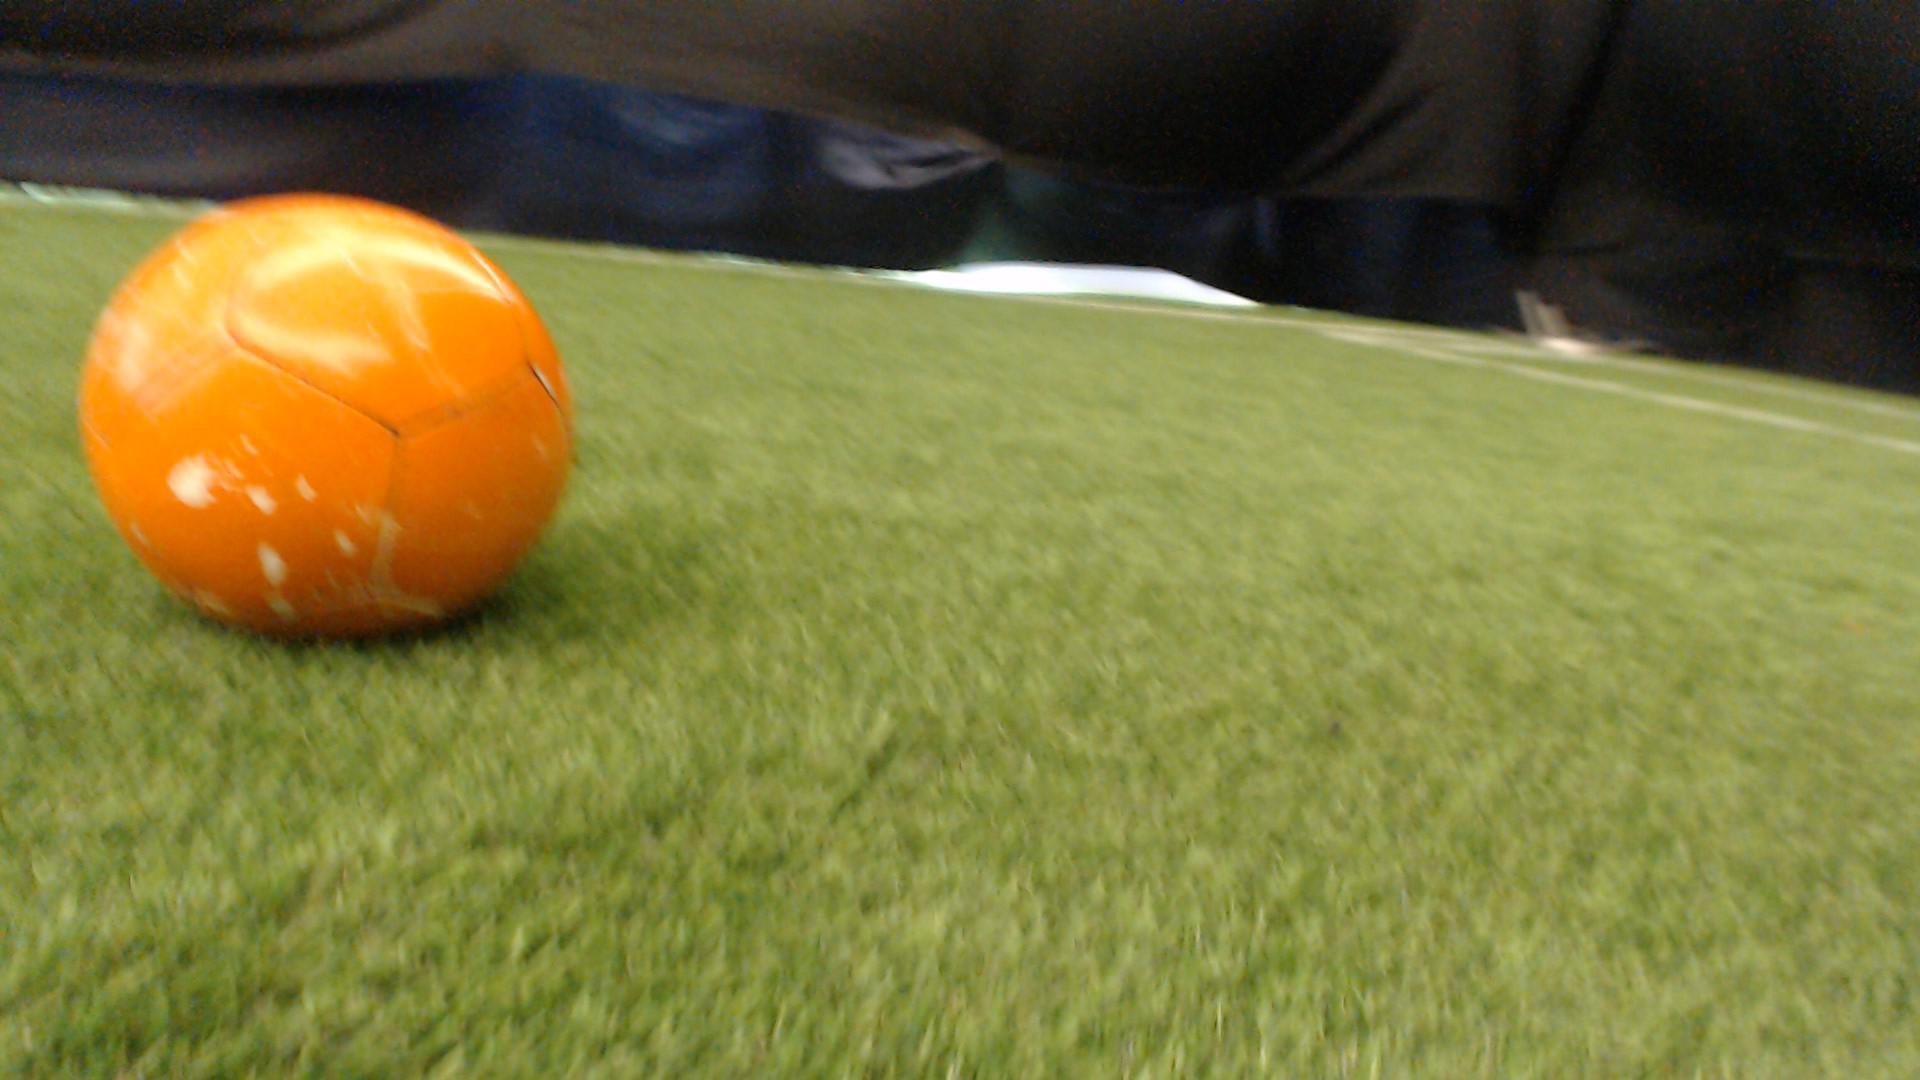bola: (55, 156, 623, 666)
